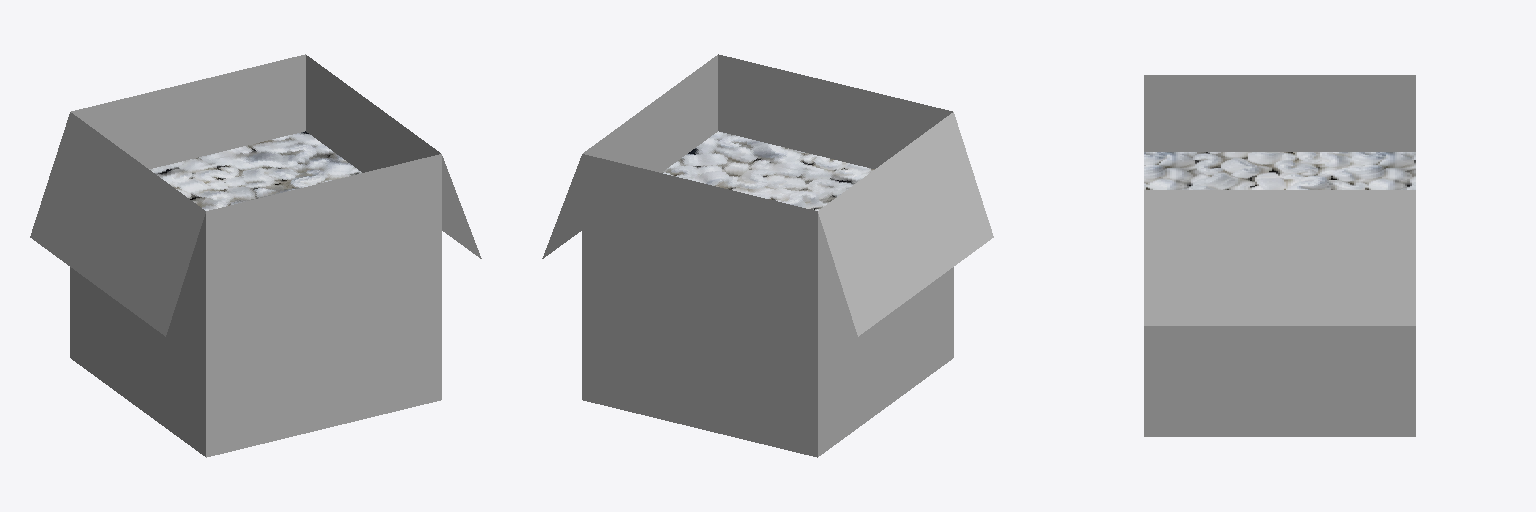
3 renders of one model, left to right at view 1: azimuth 30°, elevation 25°; view 2: azimuth 150°, elevation 25°; view 3: azimuth 270°, elevation 25°, orthographic.
Visible parts, largest first — view 1: cuboid; view 2: cuboid; view 3: cuboid.
Part boxes in pixels (left/top/right/bottom): cuboid: left=30, top=54, right=481, bottom=457; cuboid: left=542, top=54, right=993, bottom=457; cuboid: left=1144, top=75, right=1415, bottom=436.
Bounding box in the file's own units: 1.34 × 1 × 1.
2 materials, 1 textured.